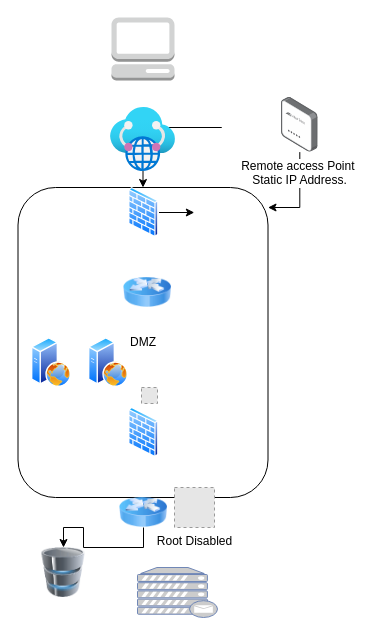
Image size: 375x636. Some labels were removed from this diagram. Grey dashed boxes stand in for pictures. The shapes that lost their labels are listed below. From the top down, each one's box as (x1, y1, x2, y2) in pixels, then its label:
(128, 187, 158, 237): Firewall External
(128, 407, 158, 457): Firewall internal
